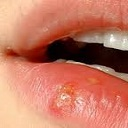Cold Sore: (51, 81, 78, 112)
